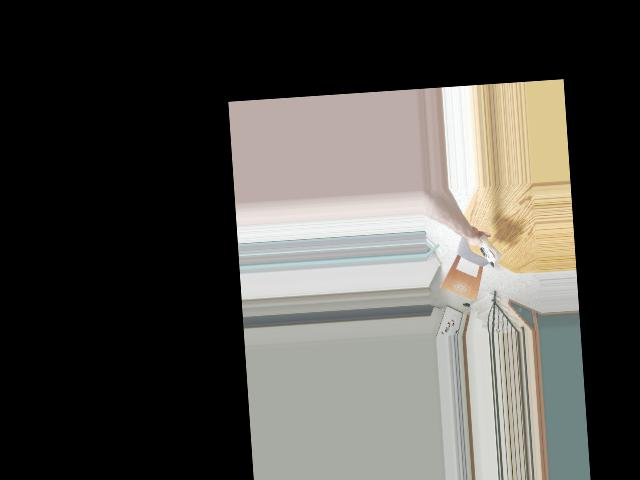cheese: (475, 232, 502, 269)
